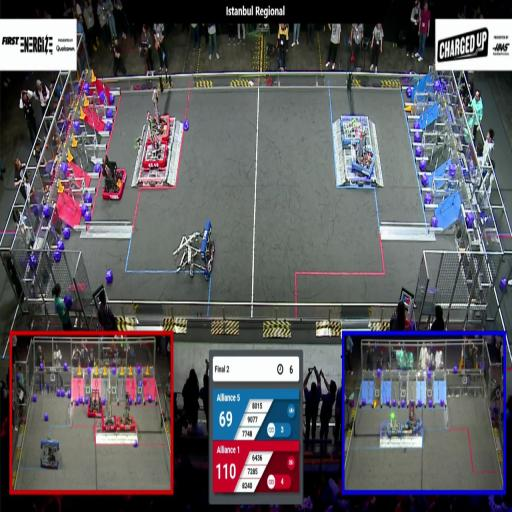robot: (172, 227, 218, 275), (145, 87, 172, 141), (100, 156, 128, 203), (117, 390, 139, 436), (340, 111, 368, 147), (141, 136, 168, 172), (351, 145, 376, 178), (404, 394, 424, 434), (39, 436, 62, 470), (102, 390, 116, 433), (87, 386, 104, 418), (386, 419, 402, 441)
